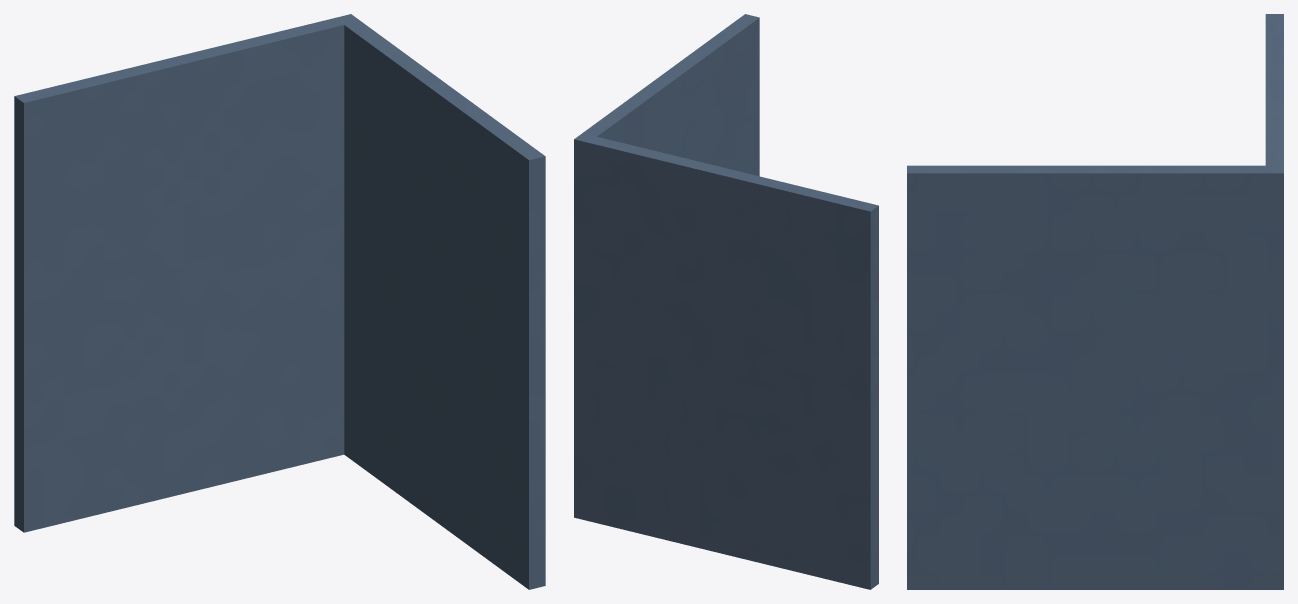
The model's file is Wall_03_LShape.fbx.
The picture shows the model from 3 angles, left to right: view 1: azimuth 30°, elevation 25°; view 2: azimuth 150°, elevation 25°; view 3: azimuth 270°, elevation 25°; orthographic projection. The views are drawn at different scales.
Visible parts, largest first — view 1: Wall_03_LShape; view 2: Wall_03_LShape; view 3: Wall_03_LShape.
Boxes of the visible parts, left/top/right/bottom form: Wall_03_LShape: left=14, top=14, right=545, bottom=589; Wall_03_LShape: left=574, top=14, right=878, bottom=589; Wall_03_LShape: left=907, top=14, right=1283, bottom=589.
Bounding box in the file's own units: 2.05 × 2.5 × 2.05.
